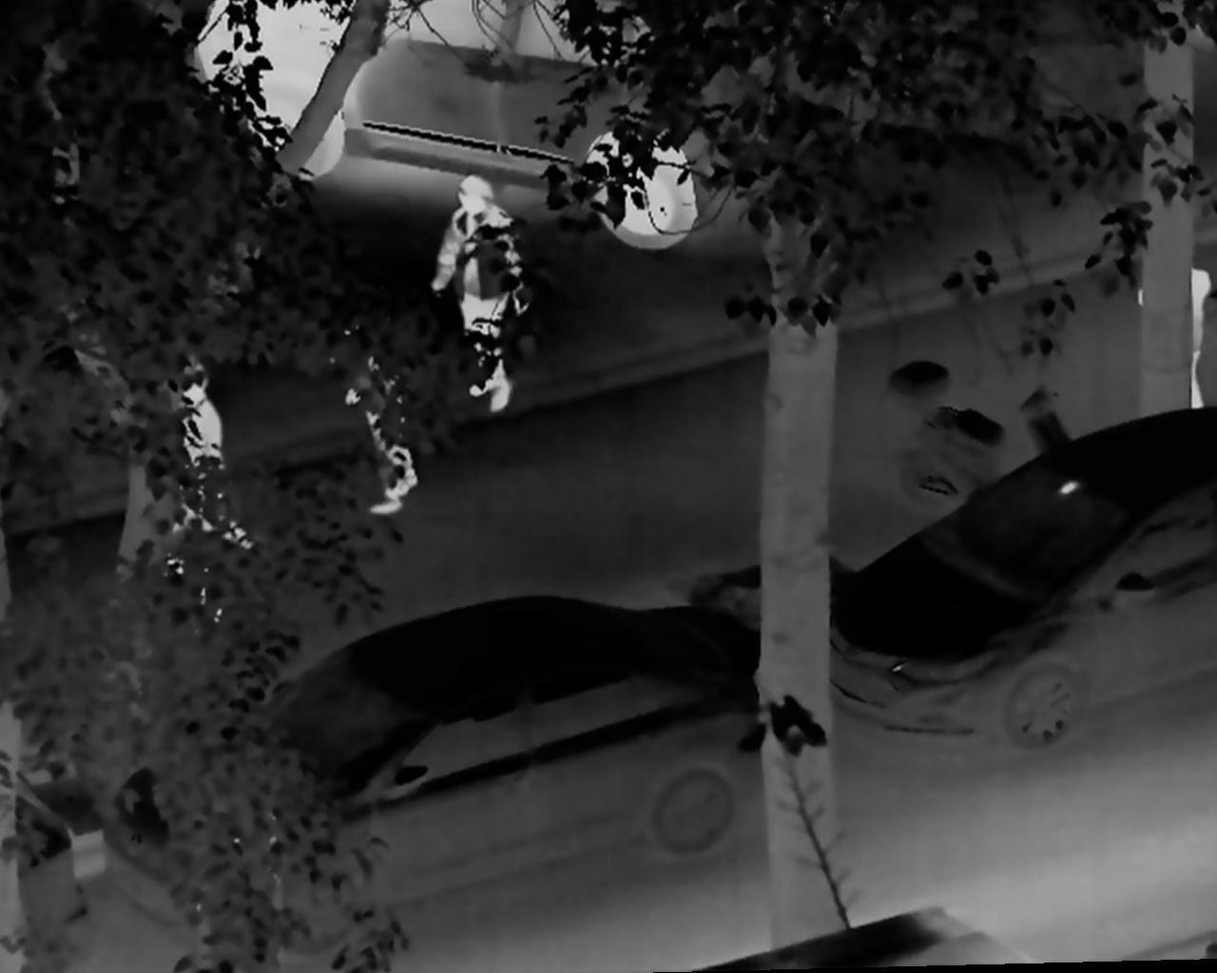person: (426, 172, 535, 418), (332, 295, 433, 521), (167, 358, 261, 568), (1130, 253, 1217, 419)
